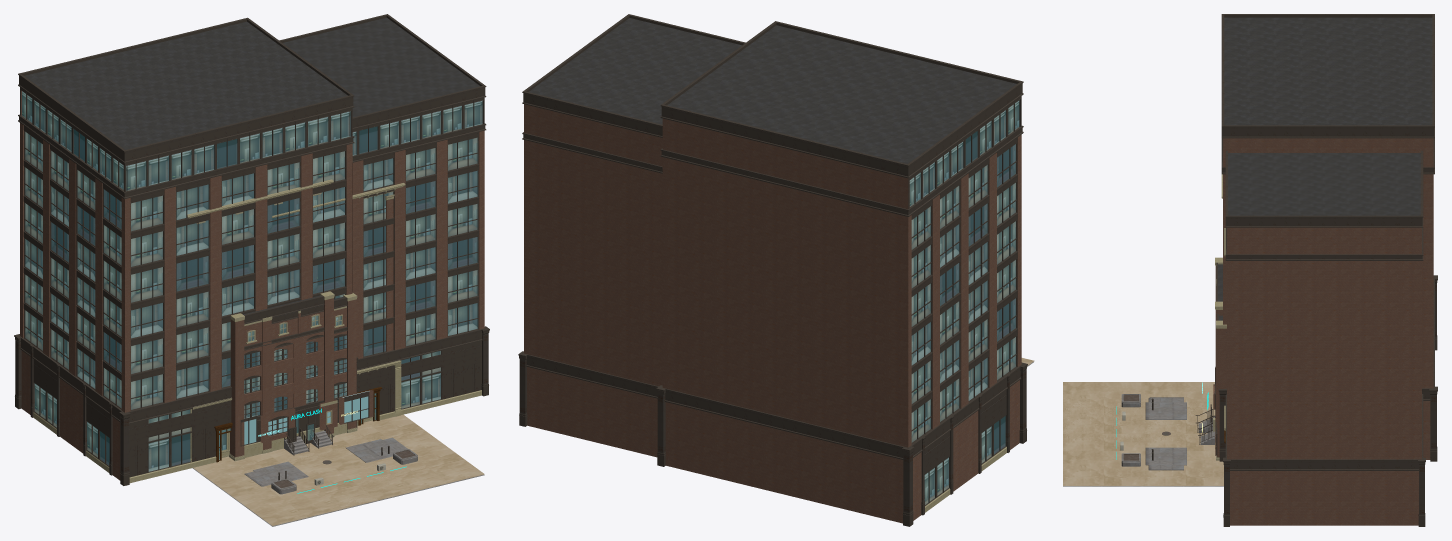
The model's file is quaternius-downtown-street-kit.glb.
The picture shows the model from 3 angles, left to right: view 1: azimuth 30°, elevation 25°; view 2: azimuth 150°, elevation 25°; view 3: azimuth 270°, elevation 25°; orthographic projection. The views are drawn at different scales.
Parts seen in each view (by area): view 1: Building_Large_2_Building_Large_2, Building_Large_2_Building_Large_2.001, Building_Small_1_Building_Small_1, Floor_4x4_Floor_4x4, Building_Small_1_Building_Small_1.001, Floor_4x4_Floor_4x4.001, Floor_4x4_Floor_4x4.002, Building_Medium_2_001_Building_Medium_2.002, Building_Medium_2_001_Building_Medium_2.001, Metal_Window_Metal_Window, Brick_Window_CurvedDouble_Brick_Window_CurvedDouble, Sidewalk_Straight_3m_Sidewalk_Straight_3m.001; view 2: Building_Large_2_Building_Large_2, Building_Large_2_Building_Large_2.001; view 3: Building_Large_2_Building_Large_2.001, Building_Large_2_Building_Large_2, Floor_4x4_Floor_4x4.001, Floor_4x4_Floor_4x4.002, Floor_4x4_Floor_4x4, Building_Small_1_Building_Small_1.001, Building_Small_1_Building_Small_1, Sidewalk_Straight_3m_Sidewalk_Straight_3m.001, Sidewalk_Straight_3m_Sidewalk_Straight_3m.
Boxes of the visible parts, x1,y1,x2,y2 form: Building_Large_2_Building_Large_2: [14, 17, 358, 485]; Building_Large_2_Building_Large_2.001: [279, 14, 489, 425]; Building_Small_1_Building_Small_1: [229, 291, 334, 461]; Floor_4x4_Floor_4x4: [244, 423, 449, 518]; Building_Small_1_Building_Small_1.001: [262, 293, 357, 453]; Floor_4x4_Floor_4x4.001: [192, 435, 413, 526]; Floor_4x4_Floor_4x4.002: [337, 414, 484, 492]; Building_Medium_2_001_Building_Medium_2.002: [272, 183, 405, 422]; Building_Medium_2_001_Building_Medium_2.001: [187, 179, 333, 461]; Metal_Window_Metal_Window: [339, 389, 373, 424]; Brick_Window_CurvedDouble_Brick_Window_CurvedDouble: [260, 408, 295, 442]; Sidewalk_Straight_3m_Sidewalk_Straight_3m.001: [346, 439, 397, 462]; Building_Large_2_Building_Large_2: [656, 21, 1027, 526]; Building_Large_2_Building_Large_2.001: [518, 14, 745, 457]; Building_Large_2_Building_Large_2.001: [1223, 150, 1425, 526]; Building_Large_2_Building_Large_2: [1218, 14, 1437, 461]; Floor_4x4_Floor_4x4.001: [1063, 382, 1215, 451]; Floor_4x4_Floor_4x4.002: [1063, 451, 1223, 486]; Floor_4x4_Floor_4x4: [1063, 401, 1215, 440]; Building_Small_1_Building_Small_1.001: [1198, 279, 1226, 460]; Building_Small_1_Building_Small_1: [1195, 257, 1222, 448]; Sidewalk_Straight_3m_Sidewalk_Straight_3m.001: [1145, 447, 1186, 465]; Sidewalk_Straight_3m_Sidewalk_Straight_3m: [1145, 402, 1186, 419].
Bounding box in the file's own units: 43.74 × 38.08 × 38.44.
Materials: 19 (13 with a texture image).
